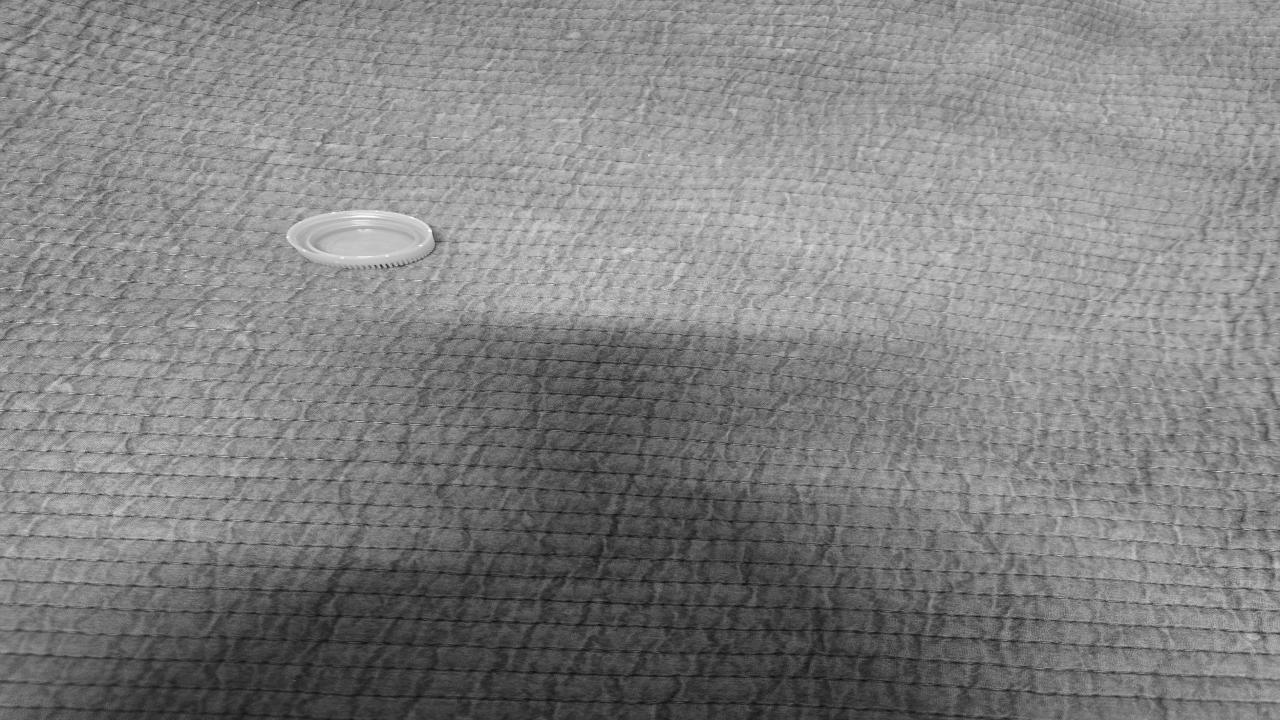bottle_cap: (290, 211, 431, 270)
